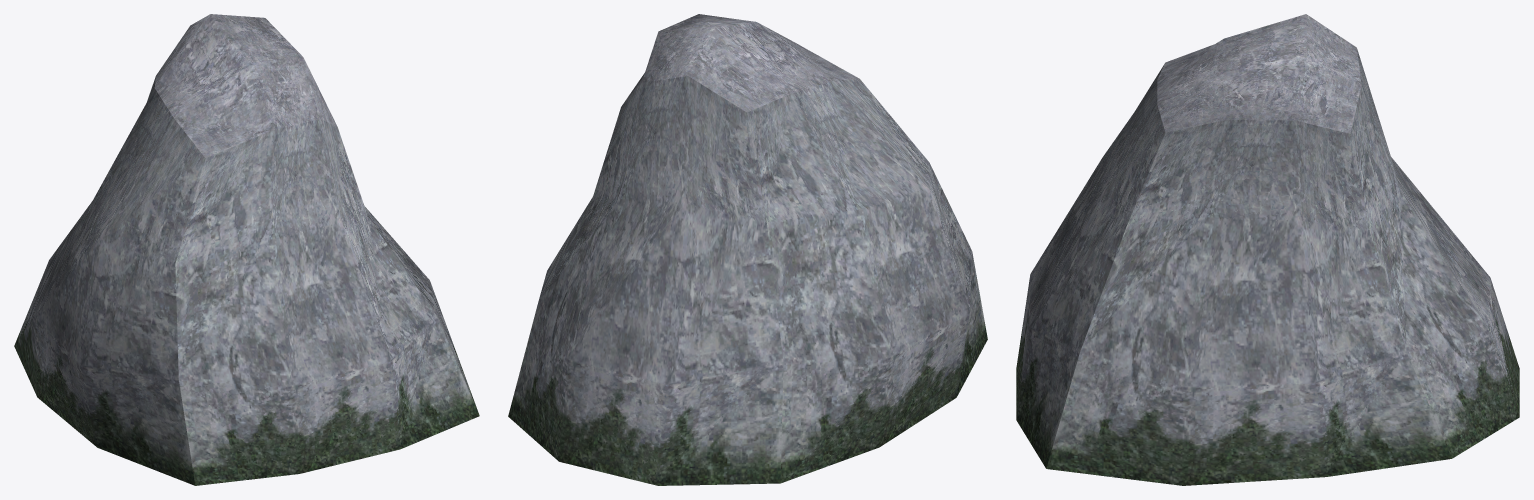
File: rock01.glb
The picture shows the model from 3 angles, left to right: view 1: azimuth 30°, elevation 25°; view 2: azimuth 150°, elevation 25°; view 3: azimuth 270°, elevation 25°; orthographic projection. The views are drawn at different scales.
Visible parts, largest first — view 1: rock01; view 2: rock01; view 3: rock01.
Boxes of the visible parts, x1,y1,x2,y2 form: rock01: [14, 14, 479, 485]; rock01: [508, 14, 987, 485]; rock01: [1016, 14, 1519, 485].
Bounding box in the file's own units: 5.31 × 4.88 × 5.89.
Materials: 2 (2 with a texture image).
